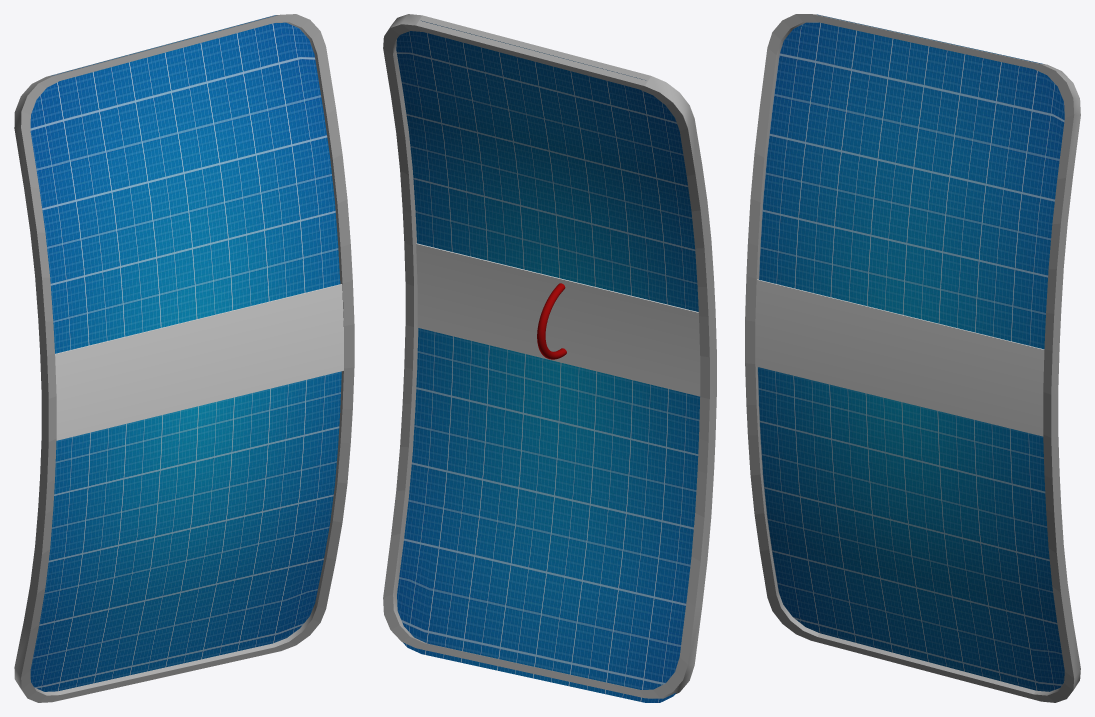
3 renders of one model, left to right at view 1: azimuth 30°, elevation 25°; view 2: azimuth 150°, elevation 25°; view 3: azimuth 330°, elevation 25°, orthographic.
Parts seen in each view (by area): view 1: polySurface1, polySurface3, polySurface4; view 2: polySurface1, polySurface4, polySurface2, pTorus1; view 3: polySurface1, polySurface3, polySurface4.
Part boxes in pixels (bbox=[...]): polySurface1: bbox=[30, 15, 341, 691]; polySurface3: bbox=[55, 284, 343, 440]; polySurface4: bbox=[14, 14, 354, 702]; polySurface1: bbox=[396, 20, 699, 702]; polySurface4: bbox=[383, 14, 716, 698]; polySurface2: bbox=[416, 243, 700, 396]; pTorus1: bbox=[537, 283, 566, 359]; polySurface1: bbox=[757, 14, 1064, 691]; polySurface3: bbox=[755, 279, 1044, 436]; polySurface4: bbox=[745, 14, 1080, 702].
Size of the model in its own units: 3.64 by 7.2 by 0.7832.
4 materials, 1 textured.
